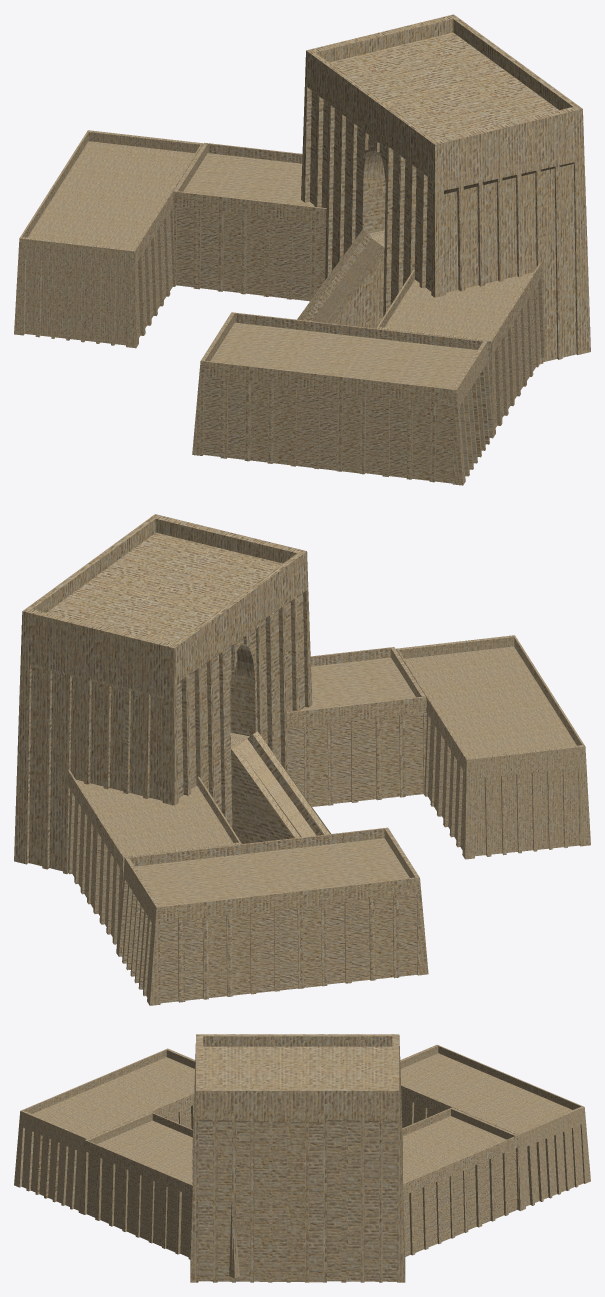
Rendered from Sumerian_TownCenter.fbx.
3 views of the same model, one above another, from view 1: azimuth 30°, elevation 25°; view 2: azimuth 150°, elevation 25°; view 3: azimuth 270°, elevation 25° (orthographic). The views are drawn at different scales.
Parts seen in each view (by area): view 1: base3, base1_002, base1_004, base1_003, base1, Cube_002; view 2: base3, base1_004, base1_002, base1, base1_003, Cube_002; view 3: base3, base1_004, base1_002, base1_003, base1.
Part boxes in pixels (x1,y1,x2,y2): base3: (301, 14, 590, 364); base1_002: (192, 312, 495, 485); base1_004: (14, 130, 203, 348); base1_003: (173, 142, 326, 301); base1: (376, 261, 545, 438); Cube_002: (297, 229, 384, 328); base3: (14, 514, 312, 874); base1_004: (116, 827, 428, 1005); base1_002: (396, 635, 590, 859); base1: (287, 647, 426, 806); base1_003: (67, 770, 241, 956); Cube_002: (230, 731, 330, 843); base3: (190, 1034, 405, 1282); base1_004: (400, 1044, 590, 1210); base1_002: (14, 1048, 195, 1214); base1_003: (402, 1107, 520, 1256); base1: (78, 1112, 239, 1278).
Bounding box in the file's own units: 11.14 × 6.24 × 16.64.
